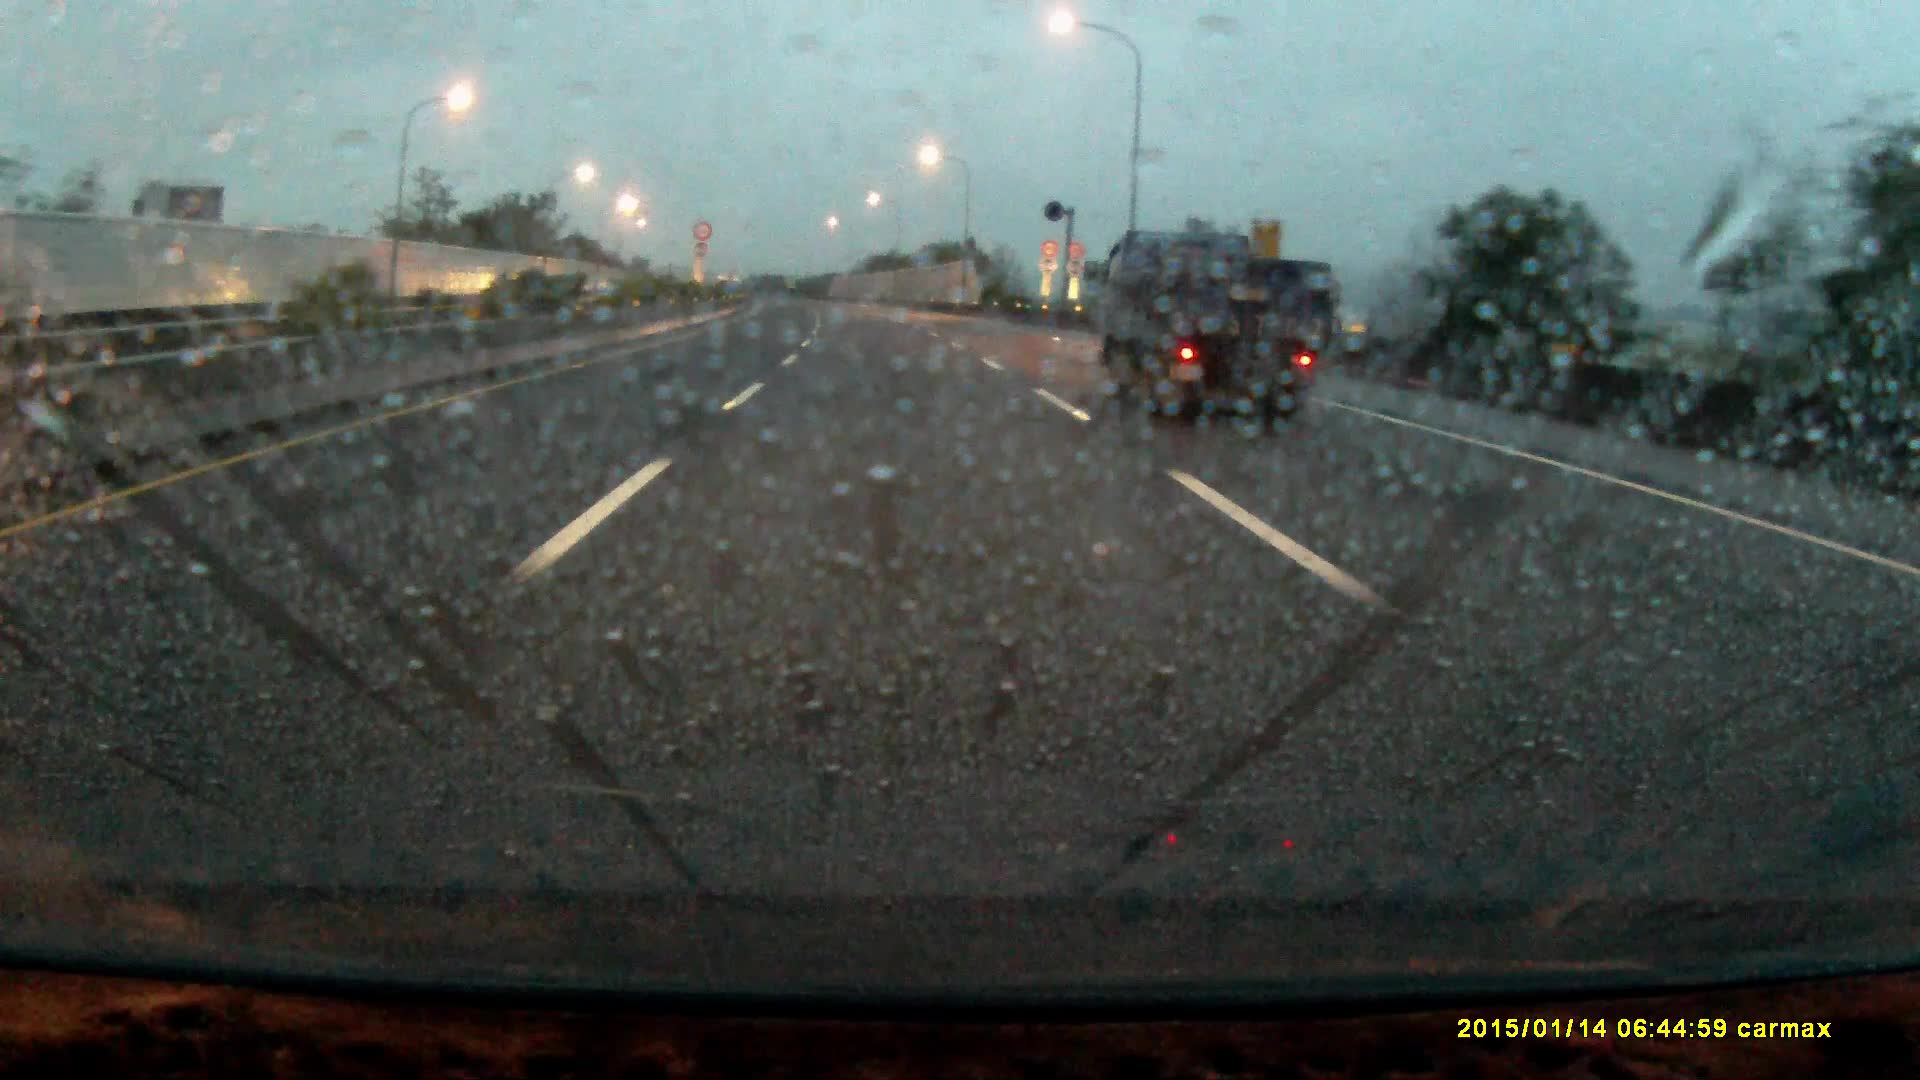vehicle: (1098, 239, 1329, 423)
